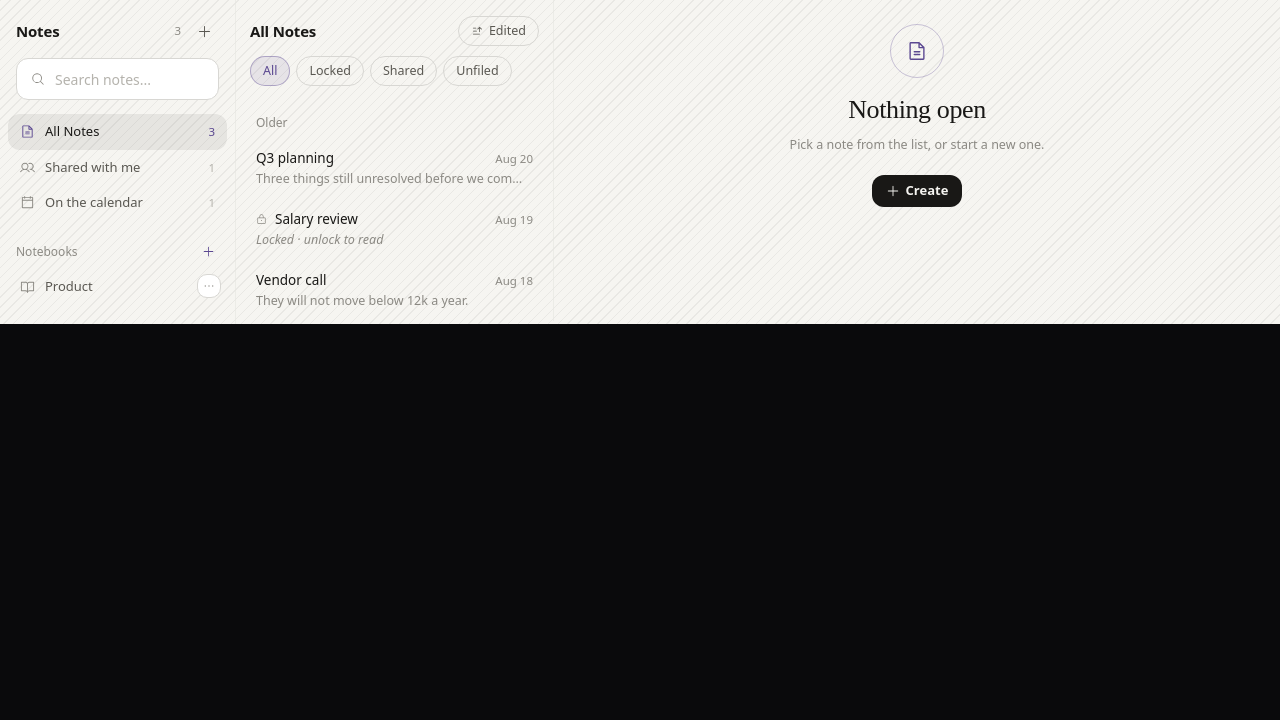
Test case: NotesWorkspace › renames a notebook — the router procedure that never had a caller
The width and height of the screenshot is (1280, 720).
Click the button named "Actions for Product". click: {"x": 209, "y": 286}
box: left=197, top=274, right=221, bottom=298
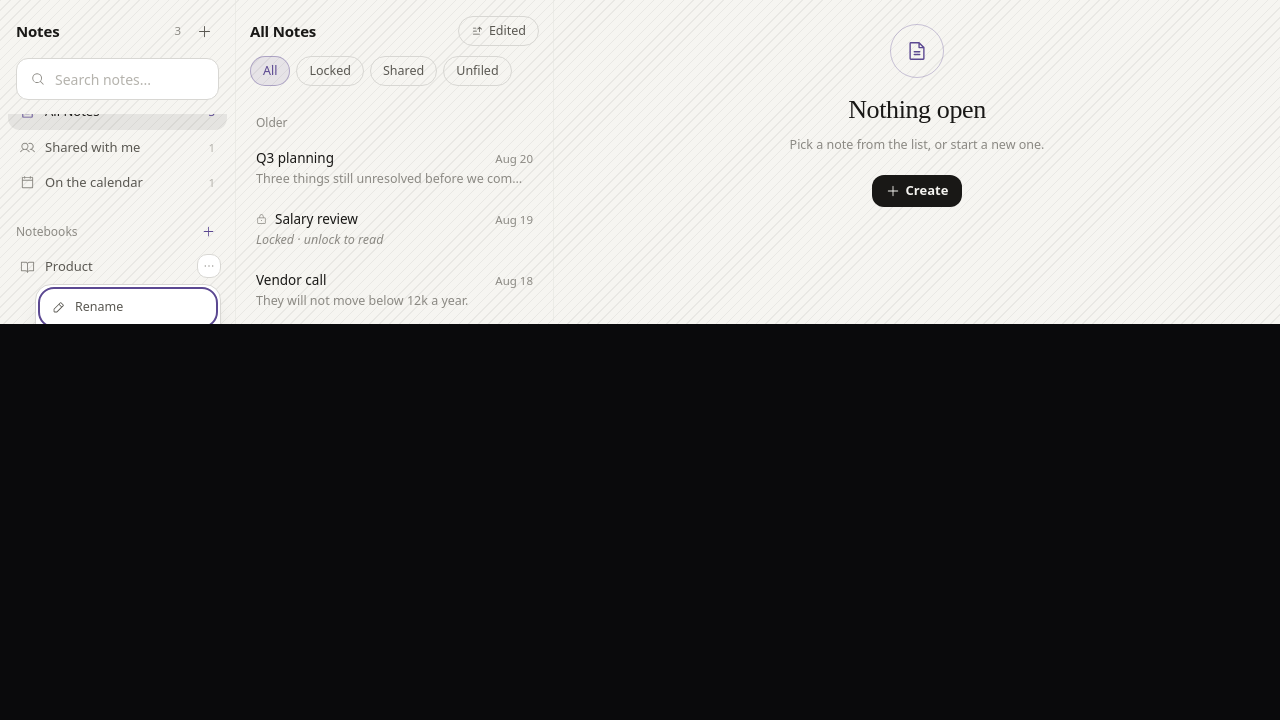
Click the menu item "Rename". click: {"x": 128, "y": 308}
box: left=42, top=291, right=214, bottom=324
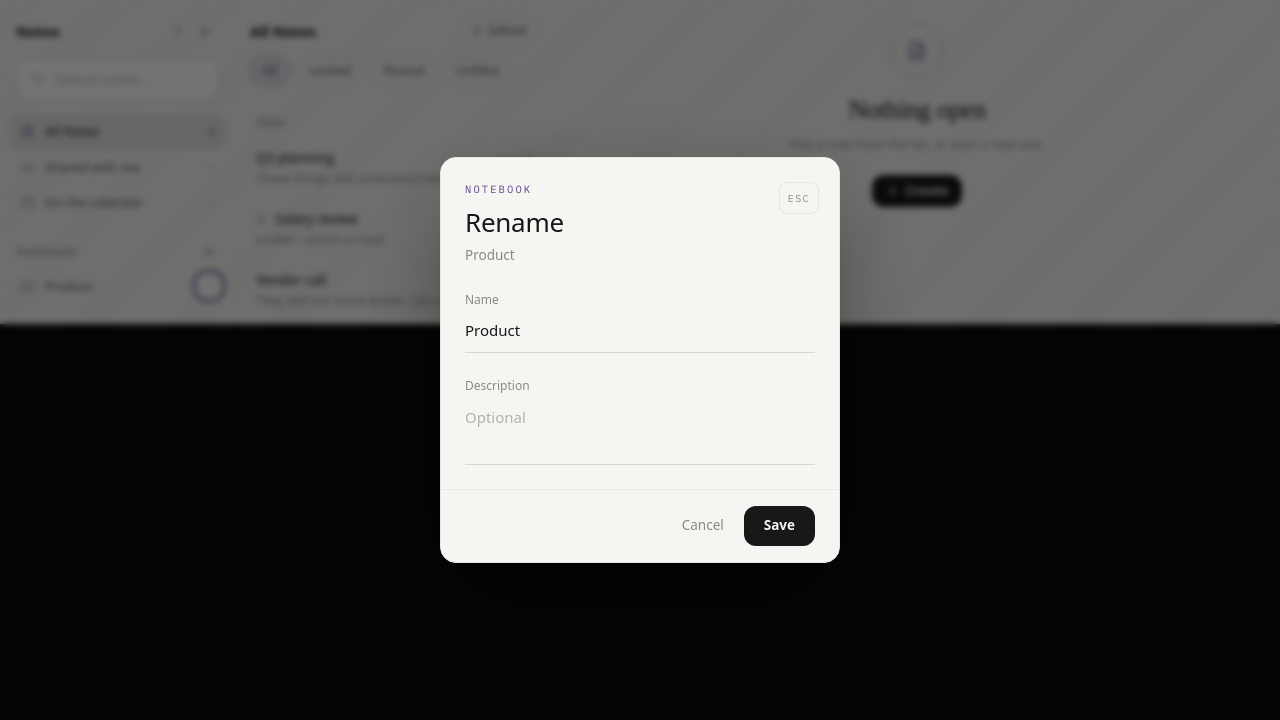
Now the field labelled "Name" holds "Product", box left=465, top=319, right=815, bottom=342
Now the text box labelled "Description" is shown, box left=465, top=405, right=815, bottom=454
